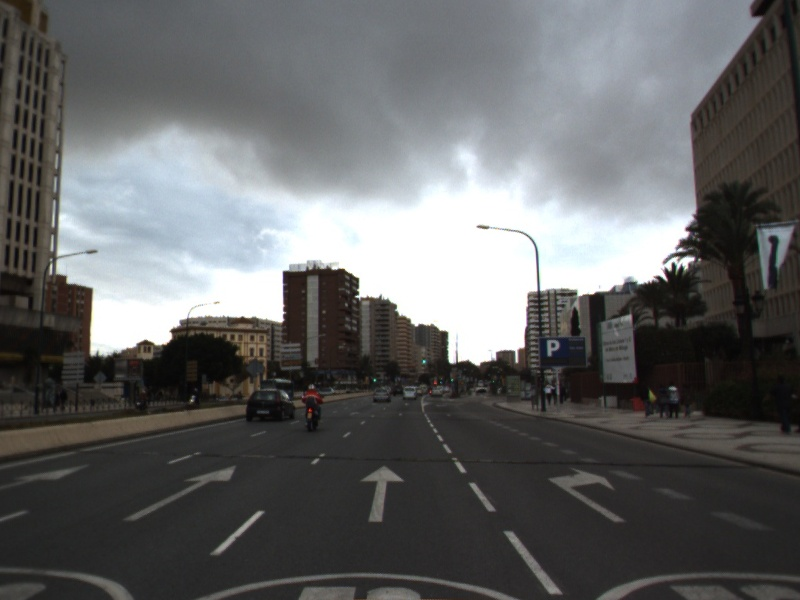RIGHT: (545, 465, 629, 524)
STRAIGHT: (120, 463, 239, 523), (356, 463, 408, 524), (1, 461, 94, 490)
